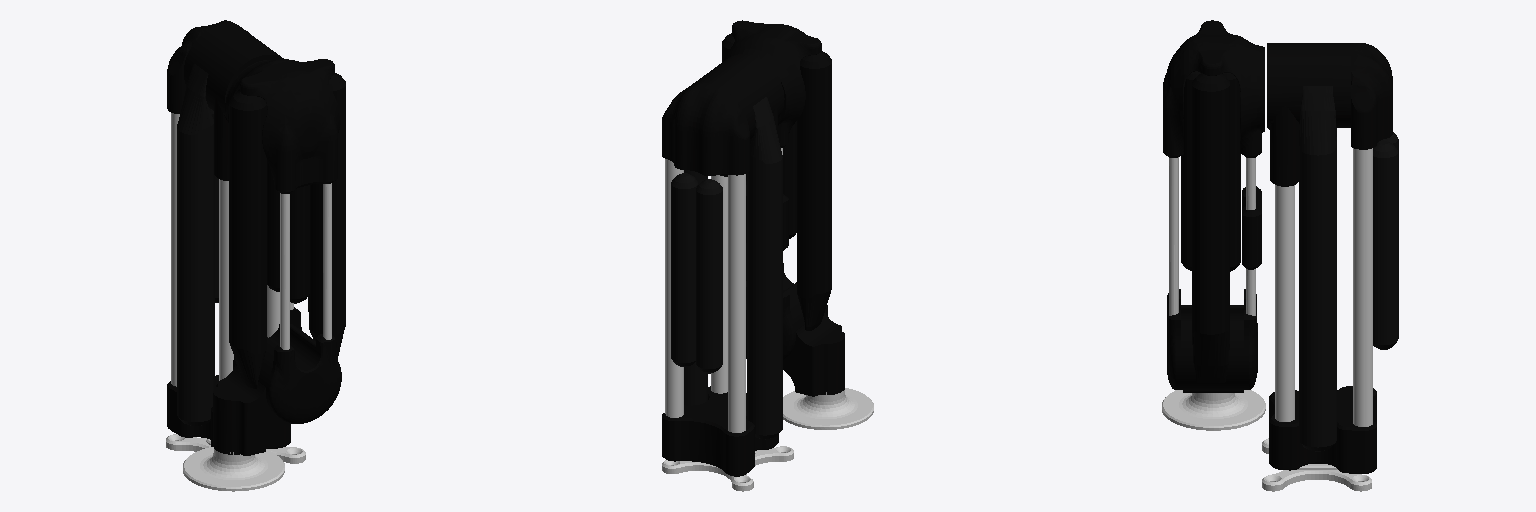
The robot description file, URDF, robot "full_arm_motor":
<?xml version="1.0" ?>
<!-- =================================================================================== -->
<!-- |    This document was autogenerated by xacro from arm_itself.urdf.xacro          | -->
<!-- |    EDITING THIS FILE BY HAND IS NOT RECOMMENDED                                 | -->
<!-- =================================================================================== -->
<robot name="full_arm_motor" xmlns:controller="http://playerstage.sourceforge.net/gazebo/xmlschema/#controller" xmlns:interface="http://playerstage.sourceforge.net/gazebo/xmlschema/#interface" xmlns:sensor="http://playerstage.sourceforge.net/gazebo/xmlschema/#sensor" xmlns:xacro="http://www.ros.org/wiki/xacro">
  <link name="base_link"/>
  <joint name="arm_to_world_fixed" type="fixed">
    <parent link="base_link"/>
    <child link="shadowarm_base"/>
    <origin rpy="0 0 0" xyz="0 0 1.0"/>
  </joint>
  <link name="shadowarm_base">
    <inertial>
      <origin rpy="0 0 0" xyz="0 0 0"/>
      <mass value="0.4"/>
      <inertia ixx="0.00071" ixy="0.0" ixz="0.0" iyy="0.00071" iyz="0.0" izz="0.0014"/>
    </inertial>
    <visual>
      <origin rpy="0 0 0" xyz="0 0 0"/>
      <geometry name="shadowarm_base_visual">
        <mesh filename="package://sr_description/arm/model/arm_base.dae" scale="0.001 0.001 0.001"/>
      </geometry>
      <material name="LightGrey"/>
    </visual>
    <collision>
      <origin rpy="0 0 0" xyz="0 0 0"/>
      <geometry name="shadowarm_base_visual">
        <mesh filename="package://sr_description/arm/model/arm_base.dae" scale="0.001 0.001 0.001"/>
      </geometry>
    </collision>
  </link>
  <link name="shadowarm_trunk">
    <inertial>
      <origin rpy="0 0 0" xyz="0 0 0.26525"/>
      <mass value="10"/>
      <inertia ixx="0.298" ixy="0.0" ixz="0.0" iyy="0.298" iyz="0.0" izz="0.0361"/>
    </inertial>
    <visual>
      <origin rpy="0 0 0" xyz="0 0 0.005"/>
      <geometry name="shadowarm_trunk_visual">
        <mesh filename="package://sr_description/arm/model/arm_trunk.dae" scale="0.001 0.001 0.001"/>
      </geometry>
      <material name="Grey"/>
    </visual>
    <collision>
      <origin rpy="0 0 0" xyz="0 0 0.005"/>
      <geometry name="shadowarm_trunk_visual">
        <mesh filename="package://sr_description/arm/model/arm_trunk.dae" scale="0.001 0.001 0.001"/>
      </geometry>
    </collision>
  </link>
  <joint name="ShoulderJRotate" type="revolute">
    <parent link="shadowarm_base"/>
    <child link="shadowarm_trunk"/>
    <origin rpy="0.0 0.0 0.0" xyz="0 0 0.01"/>
    <axis xyz="0 0 1"/>
    <limit effort="70" lower="-0.785398163397" upper="1.57079632679" velocity="1.0"/>
    <dynamics damping="5.5"/>
  </joint>
  <link name="shadowarm_upperarm">
    <inertial>
      <origin rpy="0 0 0" xyz="0 0 0.1845"/>
      <mass value="2"/>
      <inertia ixx="0.044" ixy="0.0" ixz="0.0" iyy="0.044" iyz="0.0" izz="0.0056"/>
    </inertial>
    <visual>
      <origin rpy="0 0 0" xyz="0 0.067 0"/>
      <geometry name="shadowarm_upperarm_visual">
        <mesh filename="package://sr_description/arm/model/upper_arm.dae" scale="0.001 0.001 0.001"/>
      </geometry>
      <material name="Grey"/>
    </visual>
    <collision>
      <origin rpy="0 0 0" xyz="0 0.067 0"/>
      <geometry name="shadowarm_upperarm_visual">
        <mesh filename="package://sr_description/arm/model/upper_arm.dae" scale="0.001 0.001 0.001"/>
      </geometry>
    </collision>
  </link>
  <joint name="ShoulderJSwing" type="revolute">
    <parent link="shadowarm_trunk"/>
    <child link="shadowarm_upperarm"/>
    <origin rpy="0 -3.14159265359 0.0" xyz="0 -0.134 0.5305"/>
    <!-- yaw=-0.026 -->
    <axis xyz="0 -1 0"/>
    <limit effort="100" lower="0" upper="1.57079632679" velocity="1.0"/>
    <dynamics damping="5.3"/>
  </joint>
  <link name="shadowarm_lowerarm">
    <inertial>
      <origin rpy="0 0 0" xyz="0.08 0 0.0625"/>
      <mass value="1.7"/>
      <inertia ixx="0.0016" ixy="0.0" ixz="0.0" iyy="0.0016" iyz="0.0" izz="0.0018"/>
    </inertial>
    <visual>
      <origin rpy="0 0 0" xyz="0.03 0 0.036"/>
      <geometry name="shadowarm_lowerarm_visual">
        <mesh filename="package://sr_description/arm/model/elbow_flex.dae" scale="0.001 0.001 0.001"/>
      </geometry>
      <material name="Grey"/>
    </visual>
    <collision>
      <origin rpy="0 0 0" xyz="0.03 0 0.036"/>
      <geometry name="shadowarm_lowerarm_visual">
        <mesh filename="package://sr_description/arm/model/elbow_flex.dae" scale="0.001 0.001 0.001"/>
      </geometry>
    </collision>
  </link>
  <joint name="ElbowJSwing" type="revolute">
    <parent link="shadowarm_upperarm"/>
    <child link="shadowarm_lowerarm"/>
    <origin rpy="0 0 0" xyz="0 0 0.369"/>
    <axis xyz="0 -1 0"/>
    <limit effort="50" lower="-0.52" upper="2.09439510239" velocity="1.0"/>
    <dynamics damping="5.5"/>
  </joint>
  <link name="shadowarm_handsupport">
    <inertial>
      <origin rpy="0 0 0" xyz="0 0 0"/>
      <mass value="0.75"/>
      <inertia ixx="0.00086" ixy="0.0" ixz="0.0" iyy="0.00086" iyz="0.0" izz="0.0017"/>
    </inertial>
    <visual>
      <origin rpy="0 0 0" xyz="0 0 -0.04"/>
      <geometry name="shadowarm_handsupport_visual">
        <mesh filename="package://sr_description/arm/model/elbow_rotate_motor.dae" scale="0.001 0.001 0.001"/>
      </geometry>
      <material name="LightGrey"/>
    </visual>
    <collision>
      <origin rpy="0 0 0" xyz="0 0 -0.04"/>
      <geometry name="shadowarm_handsupport_visual">
        <mesh filename="package://sr_description/arm/model/elbow_rotate_motor.dae" scale="0.001 0.001 0.001"/>
      </geometry>
    </collision>
  </link>
  <joint name="ElbowJRotate" type="revolute">
    <parent link="shadowarm_lowerarm"/>
    <child link="shadowarm_handsupport"/>
    <origin rpy="0.0 0 0" xyz="0.08 0 0.125"/>
    <axis xyz="0 0 -1"/>
    <limit effort="30" lower="-1.57079632679" upper="1.57079632679" velocity="1.0"/>
    <dynamics damping="5.5"/>
  </joint>
</robot>

--- Facts derived from the render (not from the file) ---
Views: 3 orthographic renders of the robot side by side, from view 1: azimuth 30°, elevation 25°; view 2: azimuth 150°, elevation 25°; view 3: azimuth 270°, elevation 25°.
Robot: full_arm_motor — 6 links, 5 joints (4 revolute, 1 fixed); root link base_link; default pose: all joints at 0.
Visible links, largest first — view 1: shadowarm_upperarm, shadowarm_trunk, shadowarm_lowerarm, shadowarm_handsupport, shadowarm_base; view 2: shadowarm_trunk, shadowarm_upperarm, shadowarm_lowerarm, shadowarm_handsupport, shadowarm_base; view 3: shadowarm_trunk, shadowarm_upperarm, shadowarm_handsupport, shadowarm_base.
Boxes of the visible links, x1,y1,x2,y2 form: shadowarm_upperarm: (225,59,345,423); shadowarm_trunk: (167,20,290,448); shadowarm_lowerarm: (213,365,290,455); shadowarm_handsupport: (183,447,284,491); shadowarm_base: (166,434,305,463); shadowarm_trunk: (662,54,784,476); shadowarm_upperarm: (722,20,831,359); shadowarm_lowerarm: (783,313,844,396); shadowarm_handsupport: (783,388,873,429); shadowarm_base: (662,446,793,491); shadowarm_trunk: (1267,43,1398,473); shadowarm_upperarm: (1163,20,1264,389); shadowarm_handsupport: (1162,390,1265,430); shadowarm_base: (1262,438,1371,491).
Bounding box of the posed robot: 0.2326 × 0.3064 × 0.6111 m (x, y, z).
5 mesh visuals loaded from 5 distinct referenced files (5 Collada DAE).